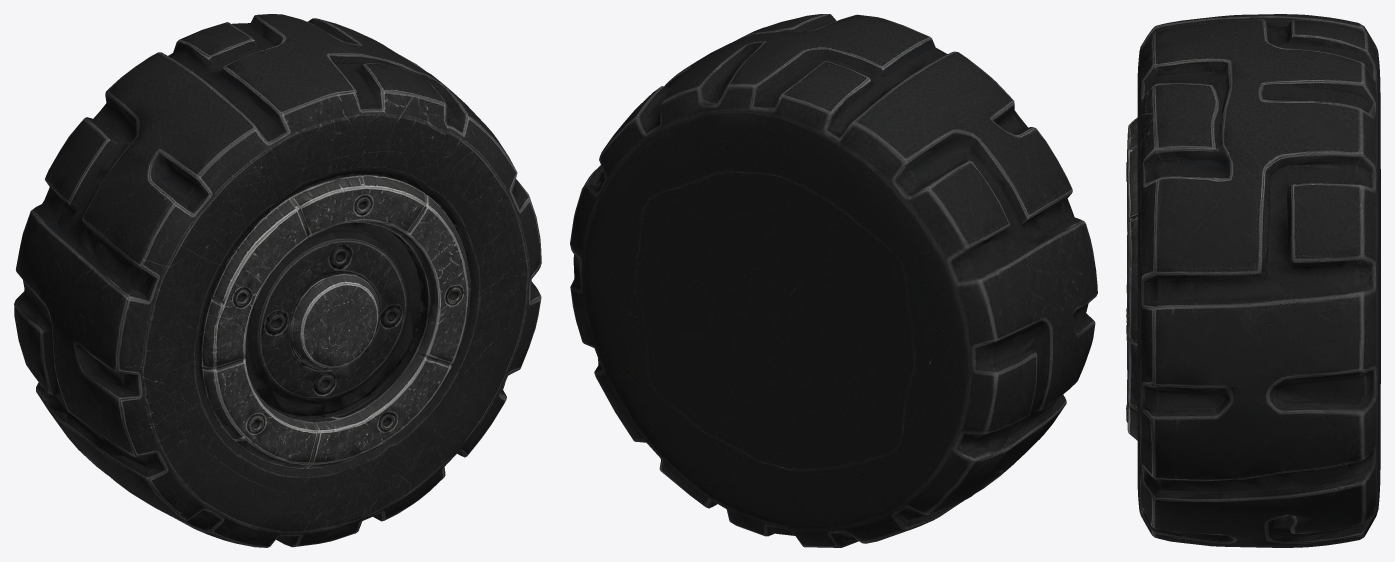
Rendered from new_wheel.glb.
3 views of the same model, side by side, from view 1: azimuth 30°, elevation 25°; view 2: azimuth 150°, elevation 25°; view 3: azimuth 270°, elevation 25° (orthographic). The views are drawn at different scales.
Visible parts, largest first — view 1: mesh_node; view 2: mesh_node; view 3: mesh_node.
Boxes of the visible parts, x1,y1,x2,y2 form: mesh_node: (14,14,541,547); mesh_node: (570,14,1097,547); mesh_node: (1126,14,1380,547).
Size of the model in its own units: 1.9 by 1.9 by 0.9078.
1 material, 1 textured.
